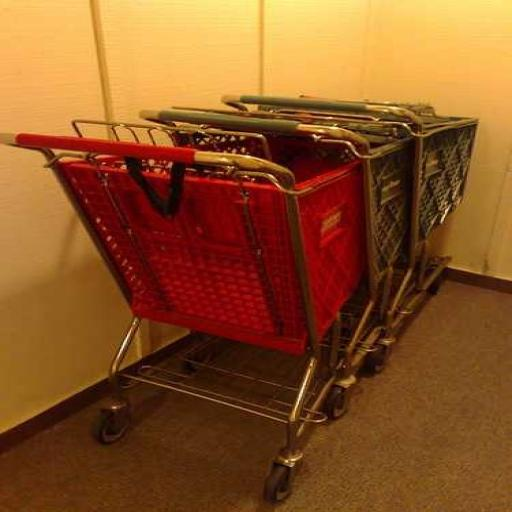shopping_cart: (0, 130, 365, 512), (140, 106, 408, 418), (219, 92, 483, 374)
